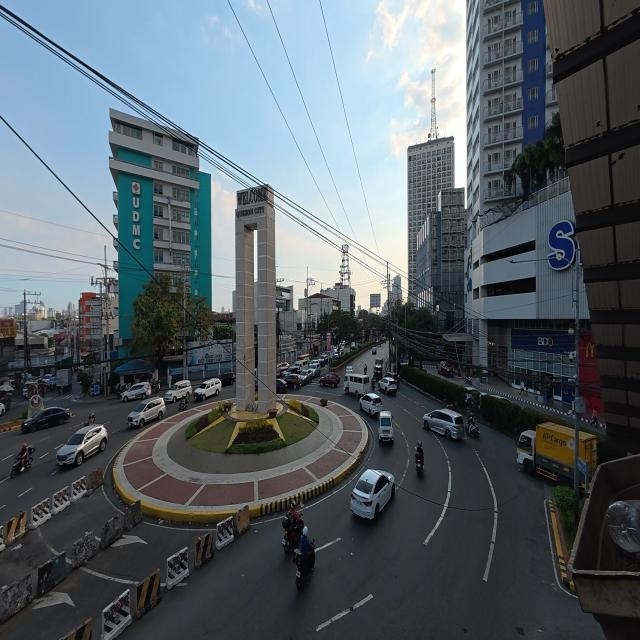car: (56, 424, 108, 466), (351, 469, 394, 519), (21, 407, 70, 433), (423, 409, 464, 439), (127, 397, 166, 428), (193, 378, 222, 401), (122, 382, 151, 402), (165, 381, 191, 402), (360, 393, 382, 416), (378, 378, 397, 395), (320, 373, 339, 388), (437, 362, 454, 377), (385, 372, 400, 388), (219, 371, 235, 386), (285, 374, 301, 389), (299, 368, 313, 384), (23, 381, 37, 397), (46, 377, 61, 391), (465, 387, 477, 404), (309, 361, 321, 377), (490, 394, 511, 403), (284, 366, 301, 377), (276, 379, 287, 394), (373, 365, 383, 380), (42, 374, 54, 386), (276, 367, 288, 378), (318, 356, 328, 366), (276, 362, 289, 369), (0, 403, 5, 415), (375, 359, 383, 366), (255, 374, 258, 392), (346, 366, 353, 373), (350, 342, 355, 349), (372, 347, 376, 354)
motorcycle: (282, 513, 304, 553), (293, 549, 315, 589), (11, 446, 34, 478), (466, 417, 479, 438), (117, 383, 131, 399), (415, 452, 424, 474), (84, 413, 95, 426), (0, 396, 11, 409), (150, 379, 160, 392), (178, 400, 188, 412), (591, 417, 600, 427), (465, 375, 472, 384)
trucks: (517, 423, 576, 480), (56, 370, 72, 391), (437, 362, 454, 377)
vans: (344, 373, 370, 397), (379, 411, 393, 443), (294, 358, 310, 369)
